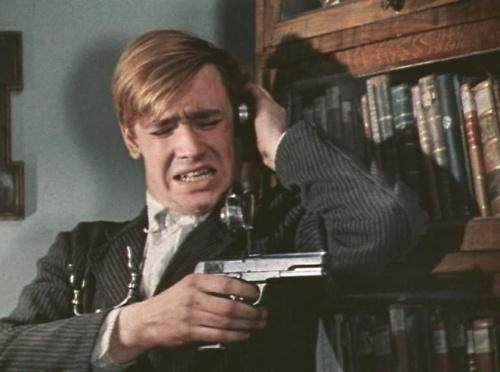Gun: (195, 252, 331, 352)
